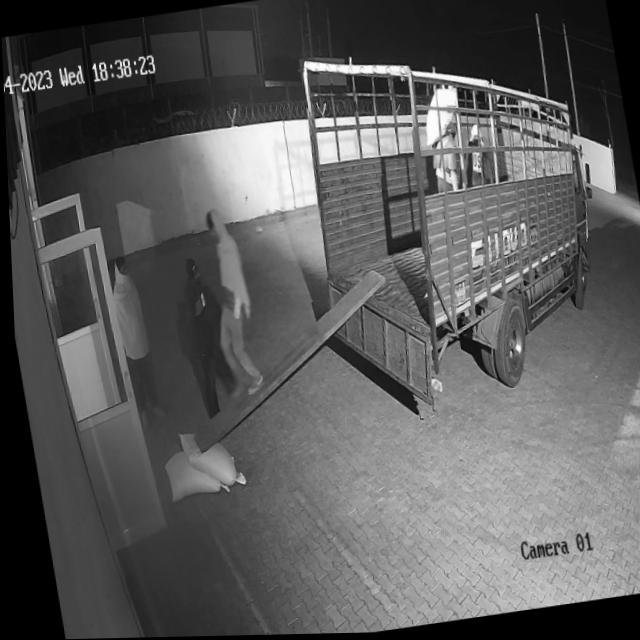sack: (172, 423, 242, 494), (157, 444, 222, 501), (415, 87, 462, 149)
